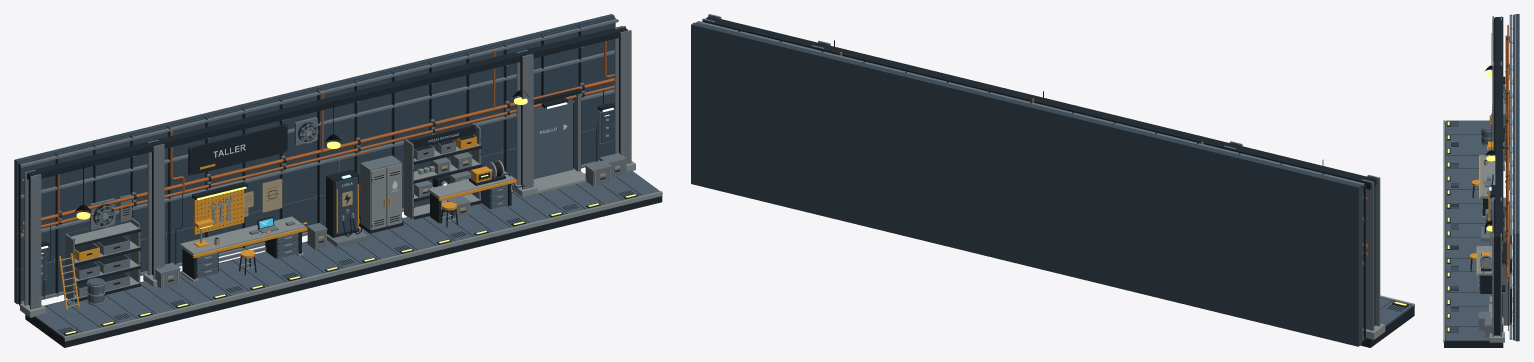
The model's file is Taller.fbx.
3 renders of one model, left to right at view 1: azimuth 30°, elevation 25°; view 2: azimuth 150°, elevation 25°; view 3: azimuth 270°, elevation 25°, orthographic. The views are drawn at different scales.
Parts seen in each view (by area): view 1: TAL_Pared_Modular_Malla, TAL_Plataforma_Y_Piso_Malla, TAL_Columnas_Y_Vigas_Malla, TAL_Red_Tuberias_Malla, TAL_Estante_Piezas_Reparadas_Malla, TAL_Estante_Izquierdo_Malla, TAL_Acceso_Pasillo_Malla, TAL_Mesa_Trabajo_Estructura_Malla, TAL_Estacion_Carga_Malla, TAL_Utileria_Suelo_Malla, TAL_Mesa_Reparacion_Malla, TAL_Panel_Herramientas_Malla (+6 smaller); view 2: TAL_Pared_Modular_Malla, TAL_Columnas_Y_Vigas_Malla, TAL_Plataforma_Y_Piso_Malla; view 3: TAL_Plataforma_Y_Piso_Malla, TAL_Columnas_Y_Vigas_Malla, TAL_Pared_Modular_Malla, TAL_Red_Tuberias_Malla, TAL_Mesa_Trabajo_Estructura_Malla, TAL_Utileria_Suelo_Malla, TAL_Acceso_Pasillo_Malla, TAL_Mesa_Reparacion_Malla, TAL_Luminarias_Visibles_Malla, TAL_Estacion_Carga_Malla, TAL_Bobinadora_Reparacion_Malla, TAL_Mesa_Objetos_Malla (+4 smaller).
Part boxes in pixels (x1,y1,x2,y2): TAL_Pared_Modular_Malla: (14,14,618,305); TAL_Plataforma_Y_Piso_Malla: (25,170,662,347); TAL_Columnas_Y_Vigas_Malla: (20,26,635,317); TAL_Red_Tuberias_Malla: (21,41,614,299); TAL_Estante_Piezas_Reparadas_Malla: (404,123,481,219); TAL_Estante_Izquierdo_Malla: (65,218,140,302); TAL_Acceso_Pasillo_Malla: (533,87,586,193); TAL_Mesa_Trabajo_Estructura_Malla: (180,216,307,282); TAL_Estacion_Carga_Malla: (326,150,370,247); TAL_Utileria_Suelo_Malla: (87,153,627,305); TAL_Mesa_Reparacion_Malla: (428,171,516,223); TAL_Panel_Herramientas_Malla: (193,189,244,234); TAL_Pared_Modular_Malla: (691,21,1365,346); TAL_Columnas_Y_Vigas_Malla: (702,14,1385,339); TAL_Plataforma_Y_Piso_Malla: (1360,295,1414,347); TAL_Plataforma_Y_Piso_Malla: (1443,120,1503,347); TAL_Columnas_Y_Vigas_Malla: (1489,16,1504,342); TAL_Pared_Modular_Malla: (1506,14,1519,341); TAL_Red_Tuberias_Malla: (1503,25,1509,330); TAL_Mesa_Trabajo_Estructura_Malla: (1479,155,1495,217); TAL_Utileria_Suelo_Malla: (1478,125,1492,337); TAL_Acceso_Pasillo_Malla: (1489,242,1512,325); TAL_Mesa_Reparacion_Malla: (1476,246,1492,293); TAL_Luminarias_Visibles_Malla: (1484,33,1505,292); TAL_Estacion_Carga_Malla: (1481,185,1495,241); TAL_Bobinadora_Reparacion_Malla: (1480,252,1492,288); TAL_Mesa_Objetos_Malla: (1483,141,1509,197).
Bounding box in the file's own units: 3244 × 776 × 468.
